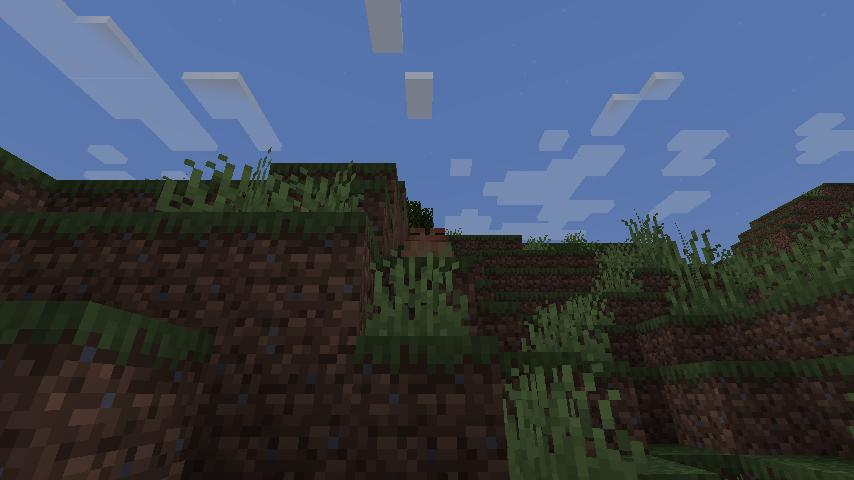frog: (399, 222, 459, 260)
